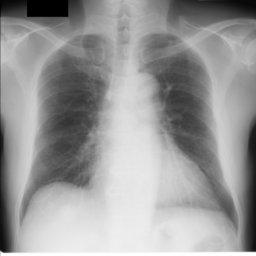left lobe: (143, 34, 235, 220)
right lobe: (23, 35, 112, 214)
